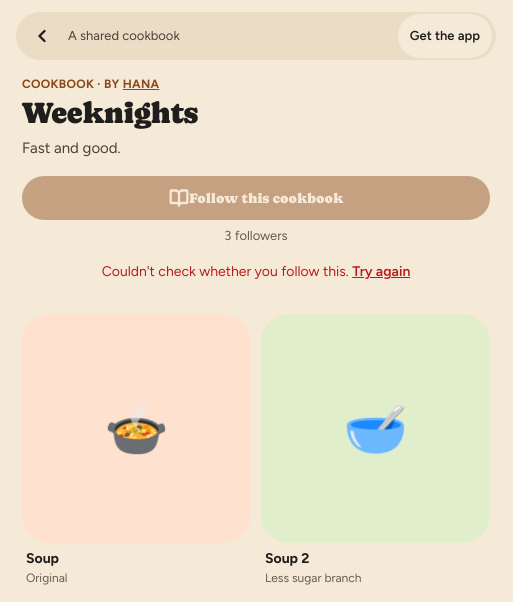
Test case: CookbookPage › keeps Follow disabled until the lookup answers, and offers a retry when it fails
Expected: the button "Follow this cookbook" is disabled, [22,176,490,220]
Click the button "Try again" at (381,272), box [352,250,410,294]
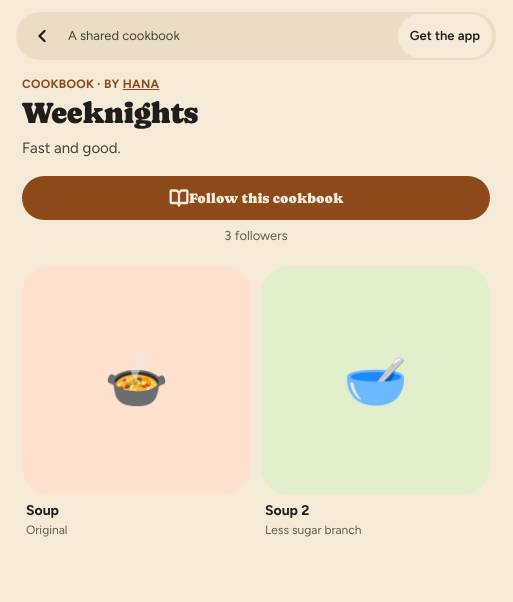
Now the button "Follow this cookbook" is enabled, box [22,176,490,220]
